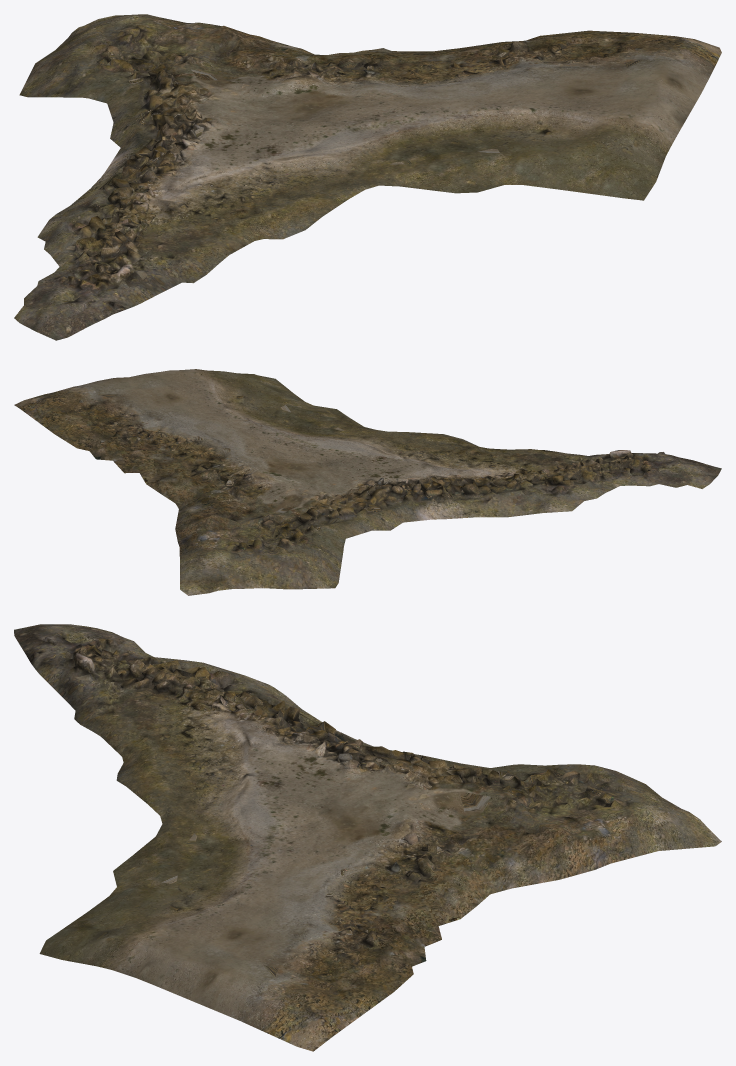
File: coast_rocks_01.glb
3 renders of one model, top to bottom at view 1: azimuth 30°, elevation 25°; view 2: azimuth 150°, elevation 25°; view 3: azimuth 270°, elevation 25°, orthographic. The views are drawn at different scales.
Visible parts, largest first — view 1: coast_rocks_01; view 2: coast_rocks_01; view 3: coast_rocks_01.
Boxes of the visible parts, <box> form: coast_rocks_01: <box>14,14,721,340</box>; coast_rocks_01: <box>14,369,721,595</box>; coast_rocks_01: <box>14,624,721,1051</box>.
Bounding box in the file's own units: 59.49 × 3.28 × 42.48.
Materials: 1 (1 with a texture image).
